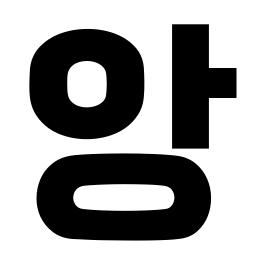Gaji: (159, 56, 226, 116)
